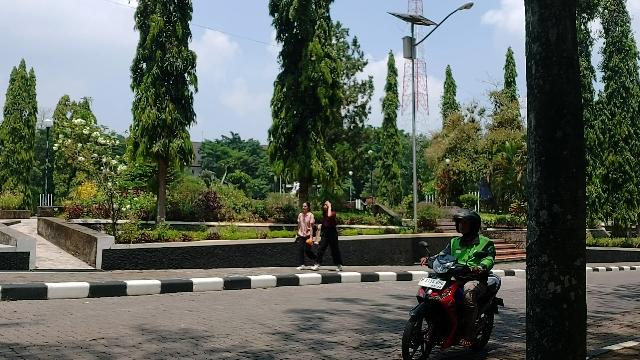helm: (454, 210, 482, 234)
motor: (403, 258, 505, 360)
